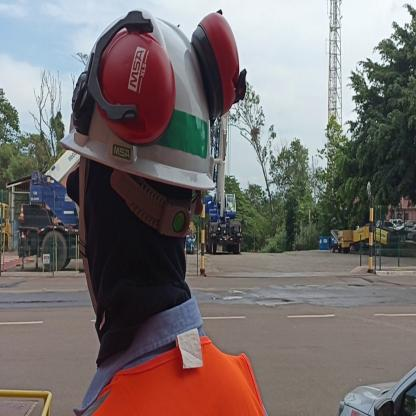Balaclava: (75, 161, 203, 331)
Capacete: (75, 19, 219, 184)
